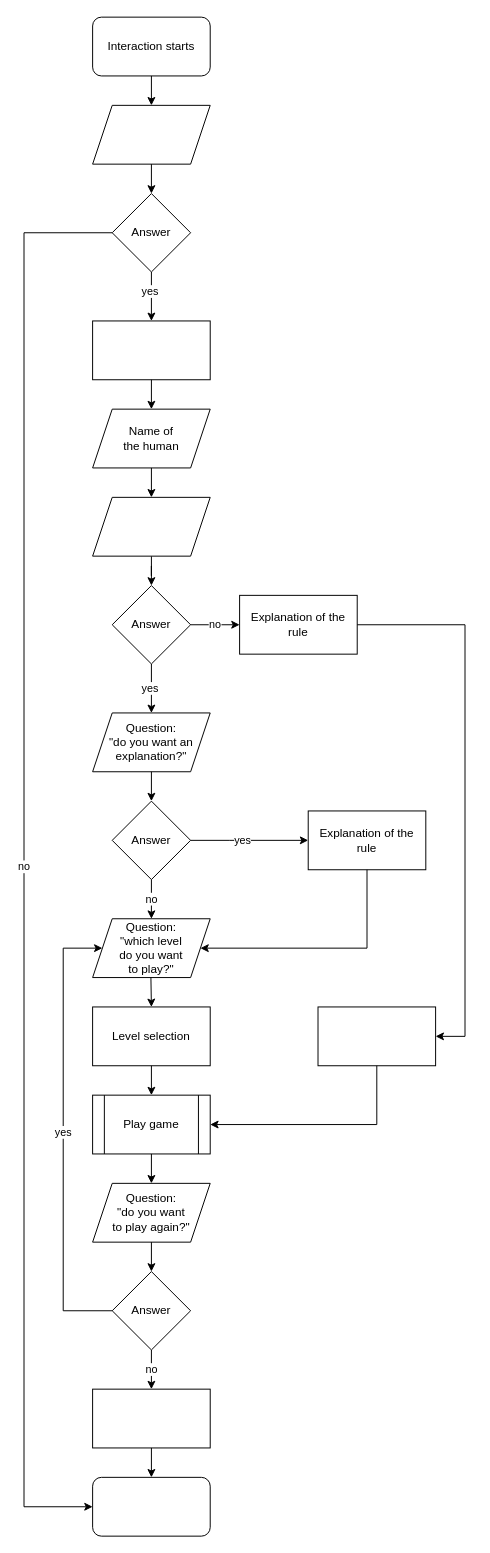
This 490x1553 diagram has some shape labels left out. The shapes that lost their labels are listed below. From the top down, each one's centre as x and y in pixels, then its label:
(151,134): Question: "do you want to play with me?"
(151,350): Pepper presentation
(151,526): Question: "have you ever played Rush Hour?"
(376,1036): Easy level selection
(151,1418): Survey
(151,1506): Interaction ends
